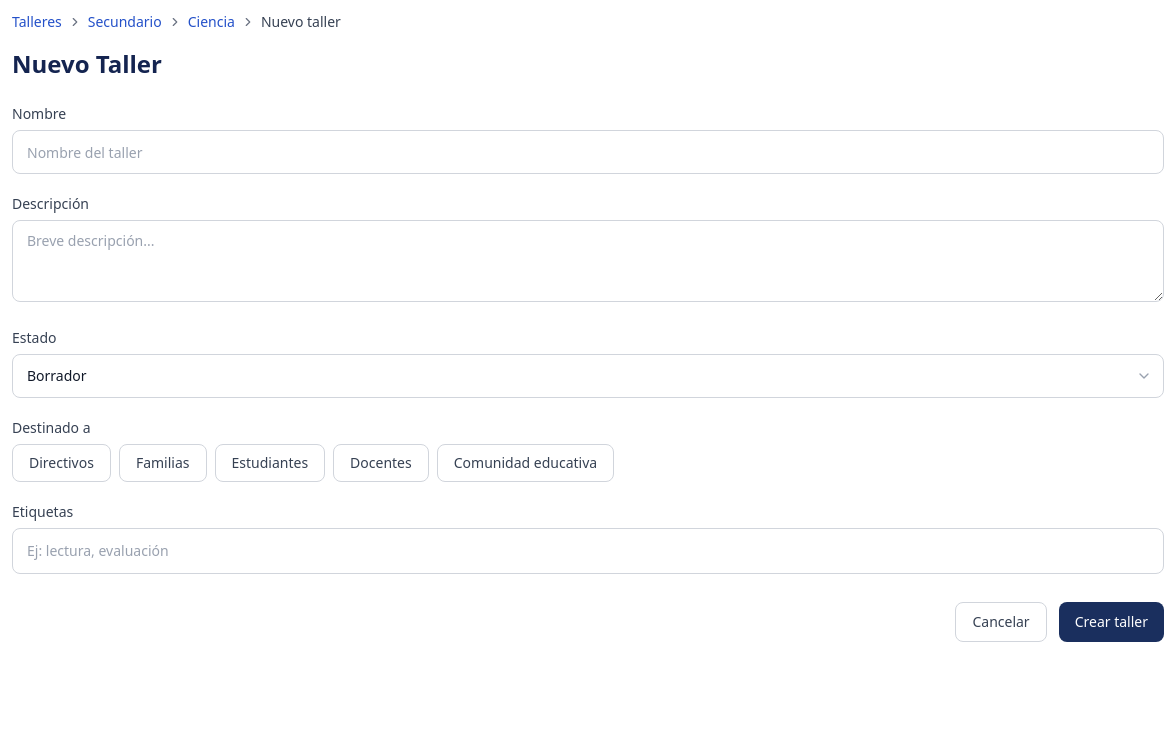
Test case: TallerFormPage: etiquetas sugeridas (criterio 9) › sugiere etiquetas de la tabla etiqueta, aunque ningún taller las use
The width and height of the screenshot is (1176, 732).
Expected: the heading "Nuevo Taller" is shown, [12,47,162,80]
In the field with placeholder "Ej: lectura, evaluación": (588, 551) [23,537,1153,565], type "cib"
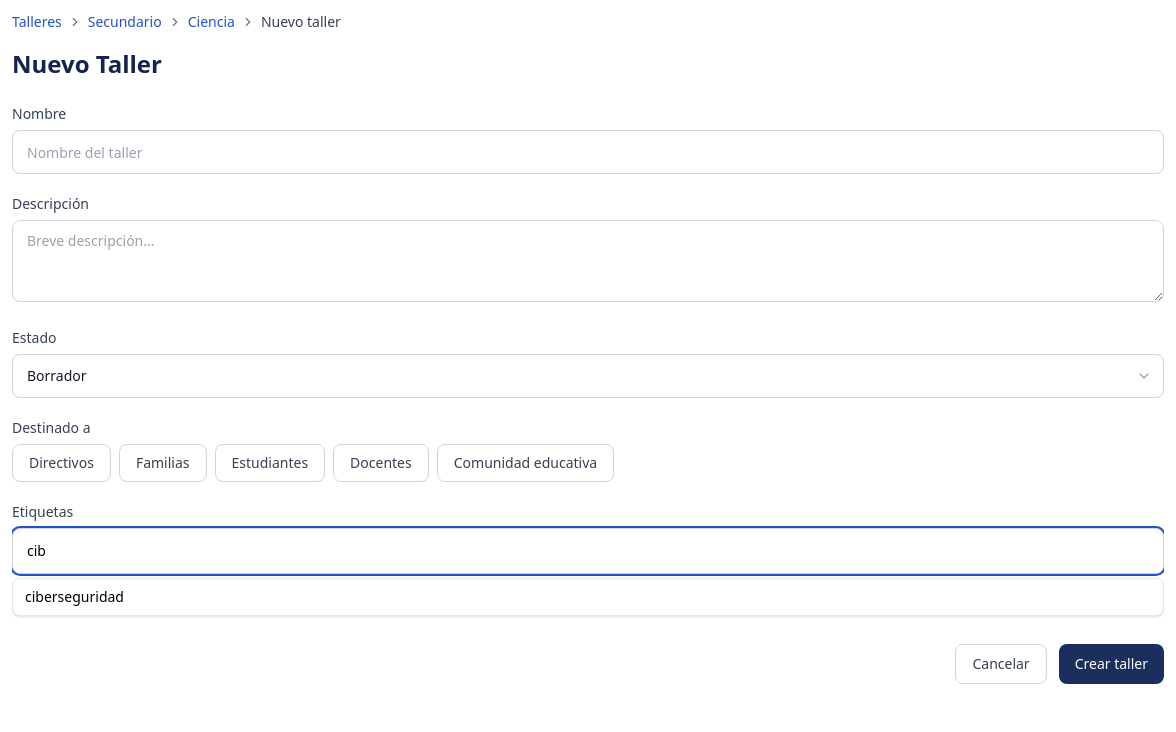
Expected: the button "ciberseguridad" is shown, [13,579,1163,615]
